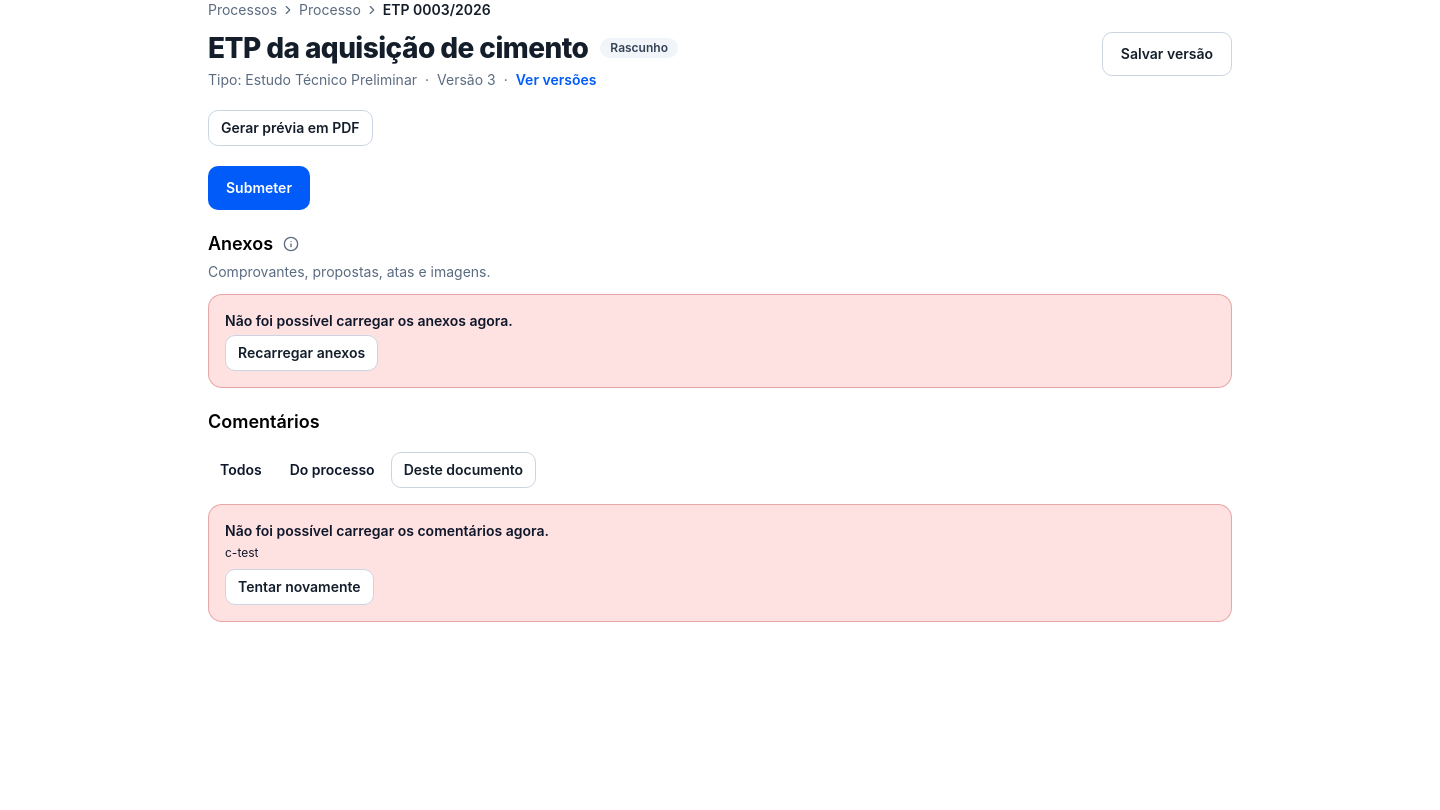
Test: SCR-105 · Salvar versão (DOC-16) › salva com resumo, Idempotency-Key, toast "Versão 4 salva" e link para as versões
The width and height of the screenshot is (1440, 810).
Check: the heading "ETP da aquisição de cimento" is shown, box 208,32 -> 588,64
Click the button "Salvar versão" at (1167, 54), box 1102,32 -> 1232,76
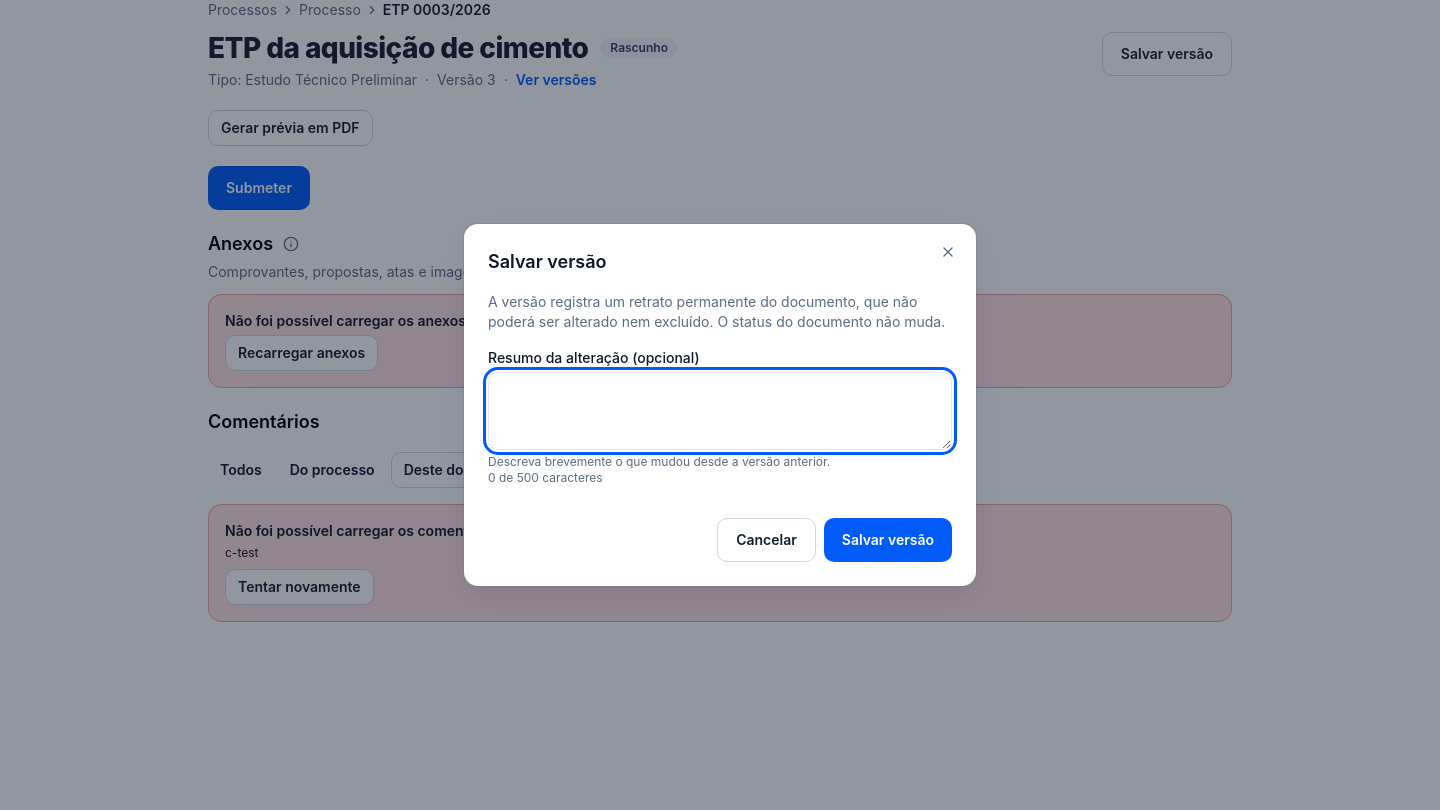
Type "Ajuste na justificativa" into the text box labelled "Resumo da alteração (opcional)" at (720, 411), box 488,372 -> 952,450
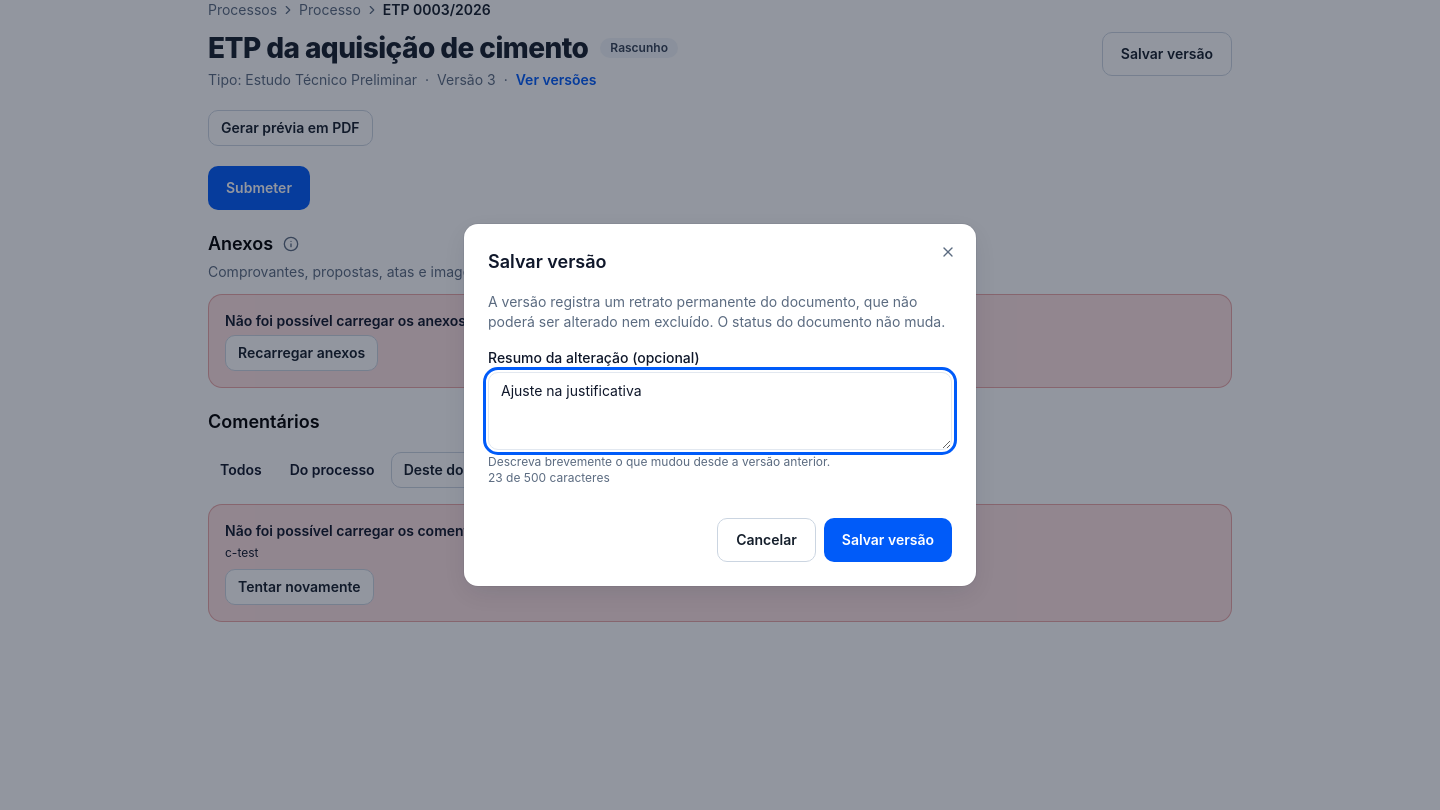
Check: the text "23 de 500 caracteres" is shown, box 488,470 -> 610,486
Click the button "Salvar versão" at (888, 540), box 824,518 -> 952,562
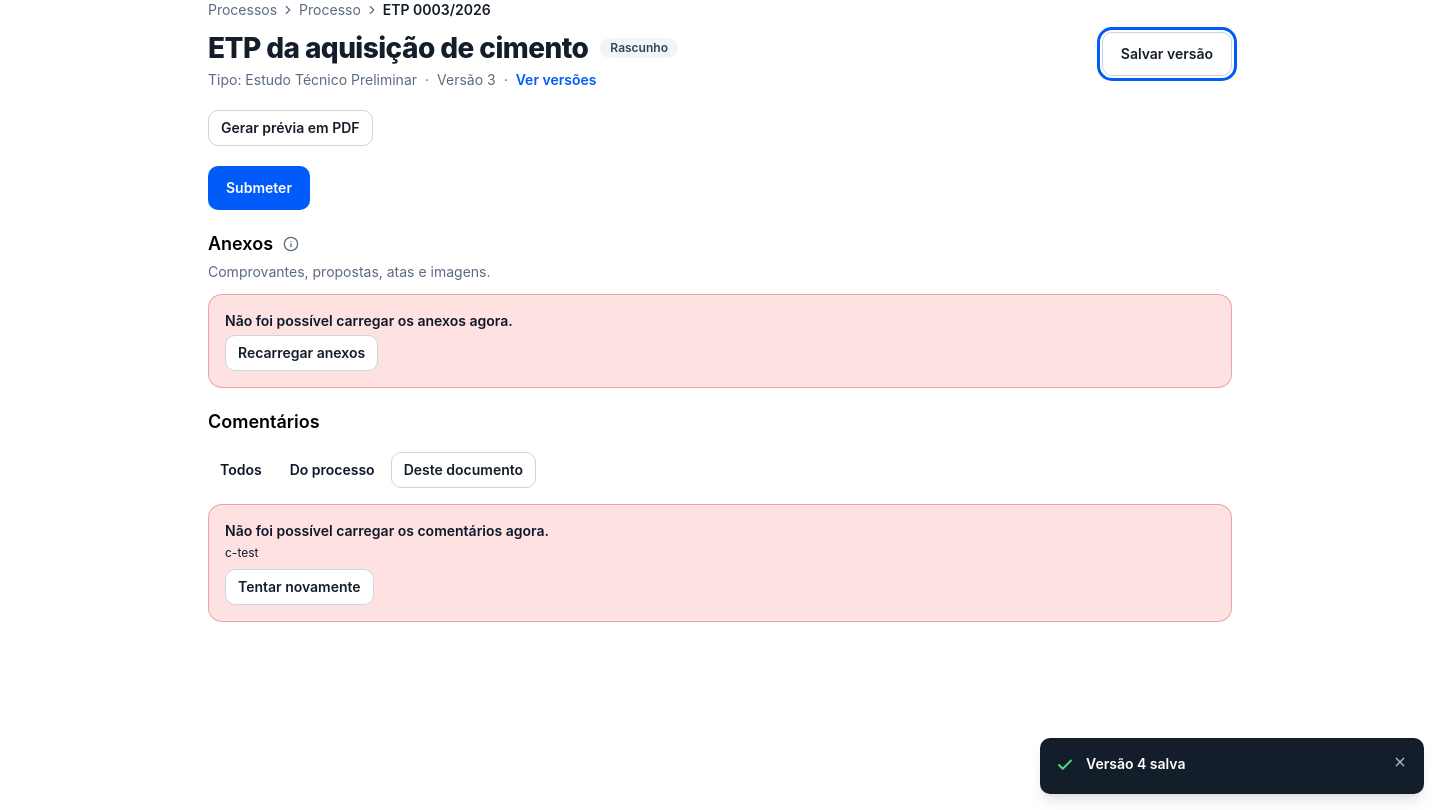
Check: the text "Versão 4 salva" is shown, box 1086,755 -> 1186,772
Check: the dialog is gone
